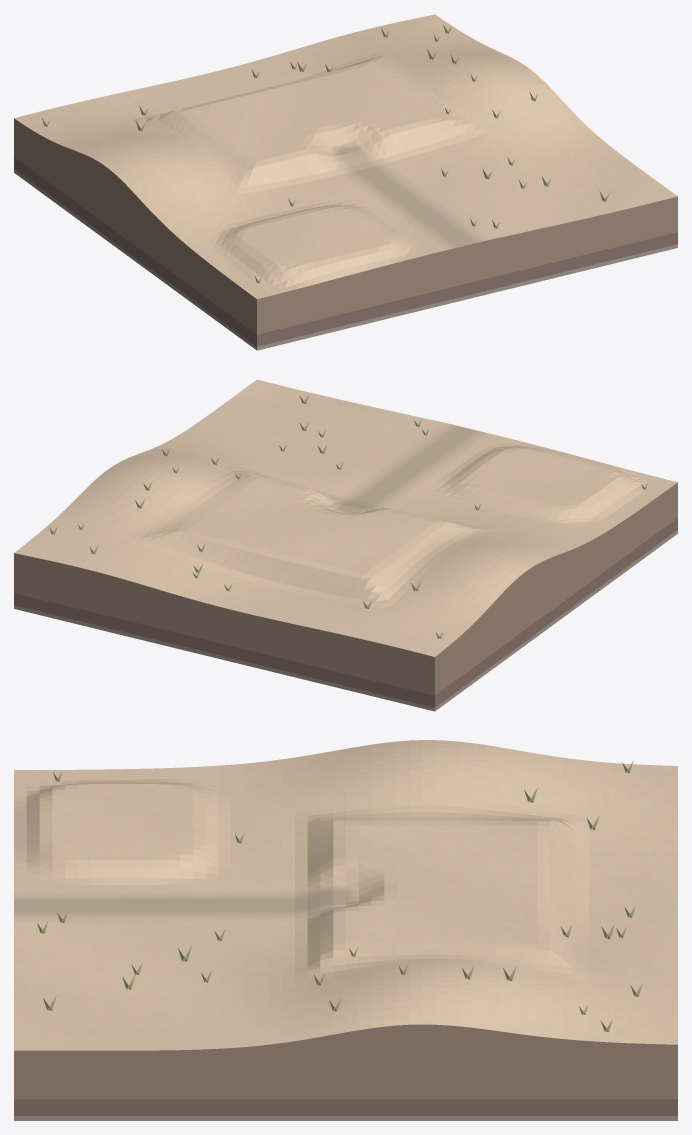
3 renders of one model, top to bottom at view 1: azimuth 30°, elevation 25°; view 2: azimuth 150°, elevation 25°; view 3: azimuth 270°, elevation 25°, orthographic. The views are drawn at different scales.
Parts seen in each view (by area): view 1: proc_ground, proc_skirt, proc_grass; view 2: proc_ground, proc_skirt, proc_grass; view 3: proc_ground, proc_skirt, proc_grass.
Part boxes in pixels (x1,y1,x2,y2): proc_ground: (14, 14, 677, 299); proc_skirt: (14, 118, 677, 350); proc_grass: (42, 24, 609, 283); proc_ground: (14, 379, 677, 656); proc_skirt: (14, 482, 677, 711); proc_grass: (49, 394, 647, 638); proc_ground: (14, 740, 677, 1050); proc_skirt: (14, 1024, 677, 1120); proc_grass: (37, 761, 642, 1032).
Size of the model in its own units: 8 by 1.55 by 8.
